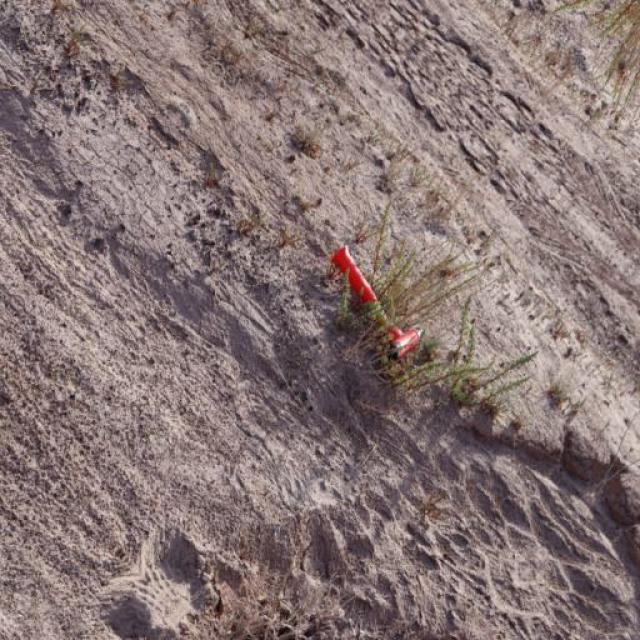mallet: (328, 242, 422, 362)
